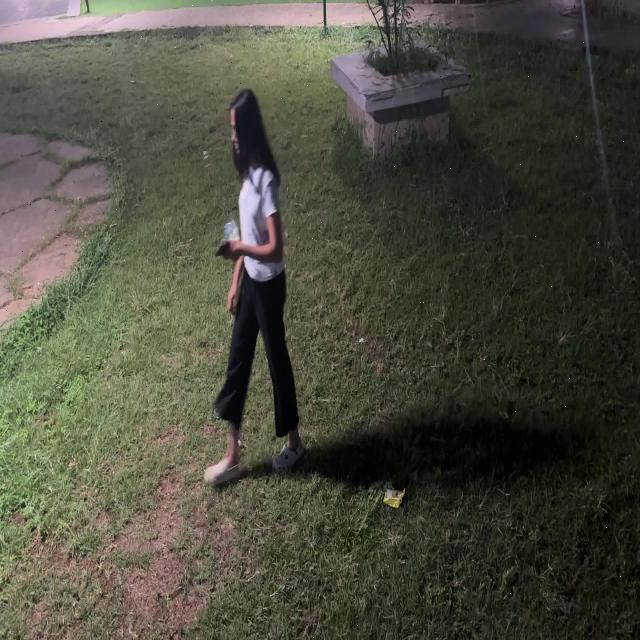garbage_dumping: (378, 483, 410, 514)
